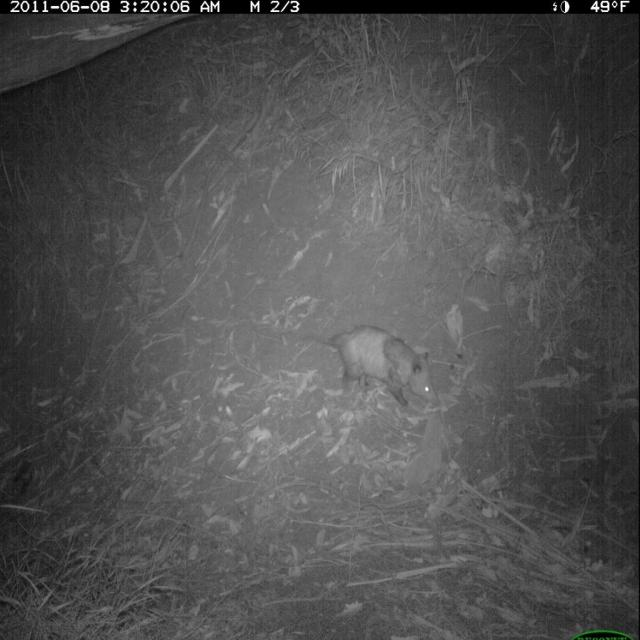opossum: (323, 315, 437, 414)
